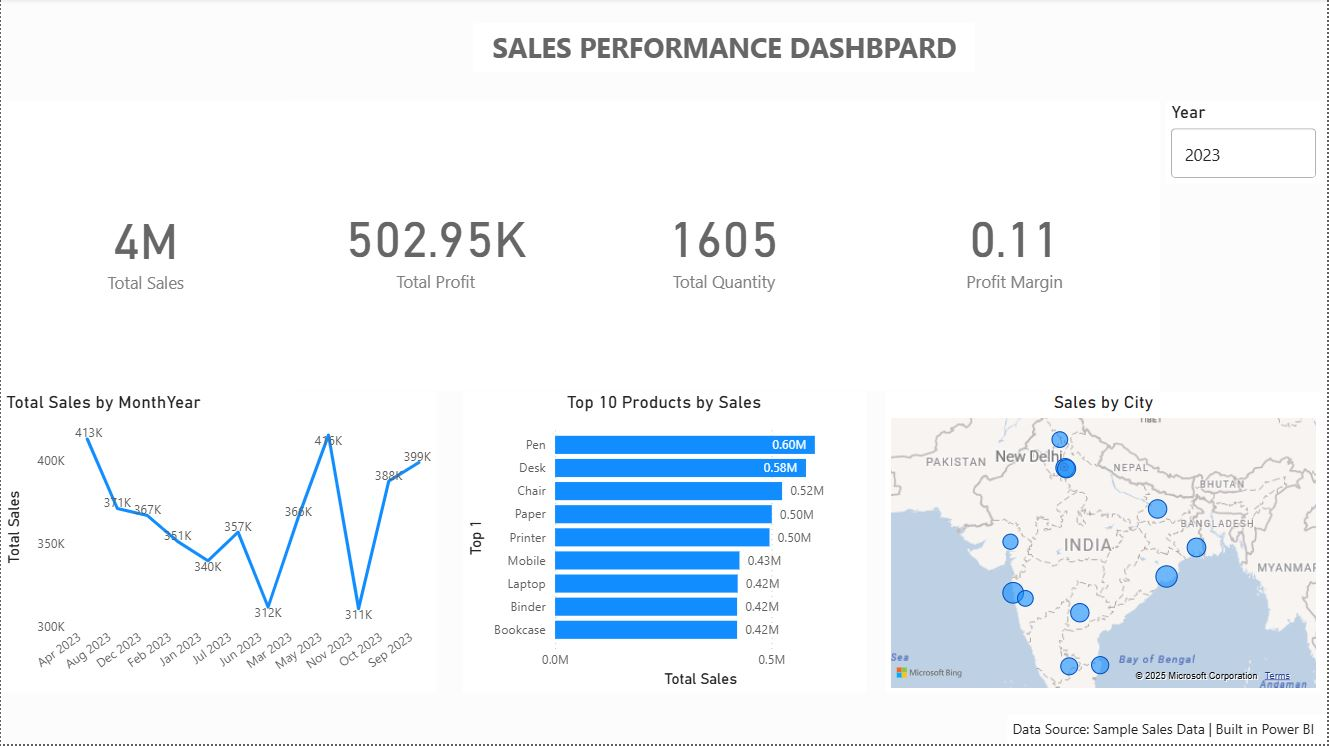

What the dashboard file says about the page in this screenshot:
{"tool":"powerbi","page":{"name":"Page 1","canvas":[1280,720],"ordinal":0},"visuals":[{"type":"shape","box":[0,0,1280,720.7],"z":0},{"type":"card","fields":{"Values":["Sales.Total Sales"]},"box":[0,100.2,279.7,279.7],"z":1000},{"type":"card","fields":{"Values":["Sales.Total Profit"]},"box":[279.7,98.8,279.7,279.7],"z":2000},{"type":"card","fields":{"Values":["Sales.Total Quantity"]},"box":[557.9,98.8,281,279.7],"z":3000},{"type":"card","fields":{"Values":["Sales.Profit Margin"]},"box":[839,98.8,279.7,279.7],"z":4000},{"type":"lineChart","fields":{"Category":["DateTable.MonthYear"],"Y":["Sales.Total Sales"]},"box":[0,379.8,420.2,290.8],"z":5000},{"type":"clusteredBarChart","title":"Top 10 Products by Sales","fields":{"Category":["Sales.Product_Name"],"Y":["Sales.Total Sales"]},"box":[445.2,379.8,389.6,290.8],"z":6000},{"type":"map","title":"Sales by City","fields":{"Category":["Sales.City"],"Size":["Sales.Total Sales"]},"box":[854.3,379.8,420.2,290.8],"z":7000},{"type":"advancedSlicerVisual","fields":{"Values":["DateTable.Year"]},"box":[1124.2,100.2,150.3,79.3],"z":8000},{"type":"textbox","box":[456.3,23.7,484.2,47.3],"z":9000},{"type":"textbox","box":[971.1,691.5,308.9,29.2],"z":9001}]}

Visuals, with their boxes in screenshot pixels (x1, y1, x2, y2), scaled from the page's 1280x720 canvas onto the 1329x746 screenshot:
shape: [0,0,1328,745]
card - Sales.Total Sales: [0,104,290,394]
card - Sales.Total Profit: [290,102,581,392]
card - Sales.Total Quantity: [579,102,871,392]
card - Sales.Profit Margin: [871,102,1162,392]
lineChart - DateTable.MonthYear x Sales.Total Sales: [0,394,436,695]
"Top 10 Products by Sales" clusteredBarChart: [462,394,867,695]
"Sales by City" map: [887,394,1323,695]
advancedSlicerVisual - DateTable.Year: [1167,104,1323,186]
textbox: [474,25,977,74]
textbox: [1008,716,1328,745]
